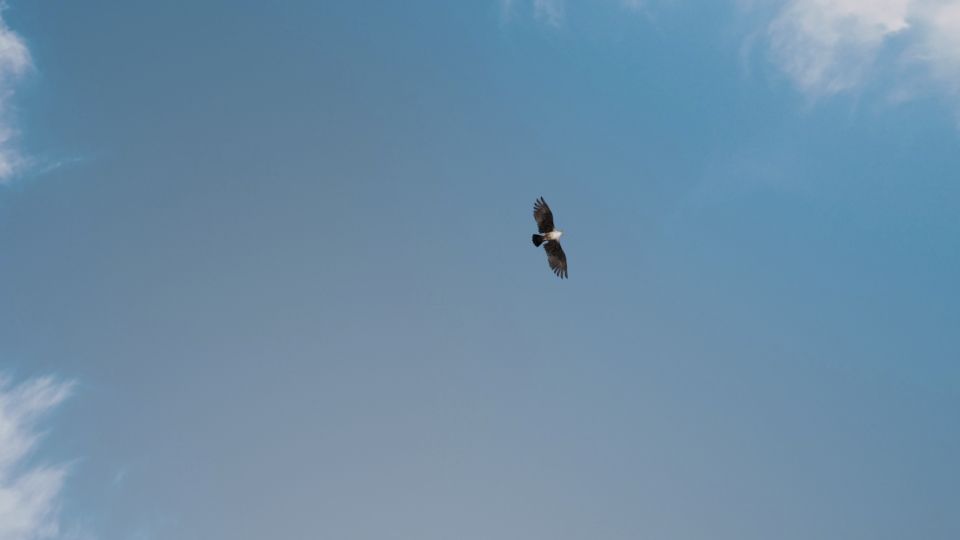bird: (521, 193, 573, 277)
